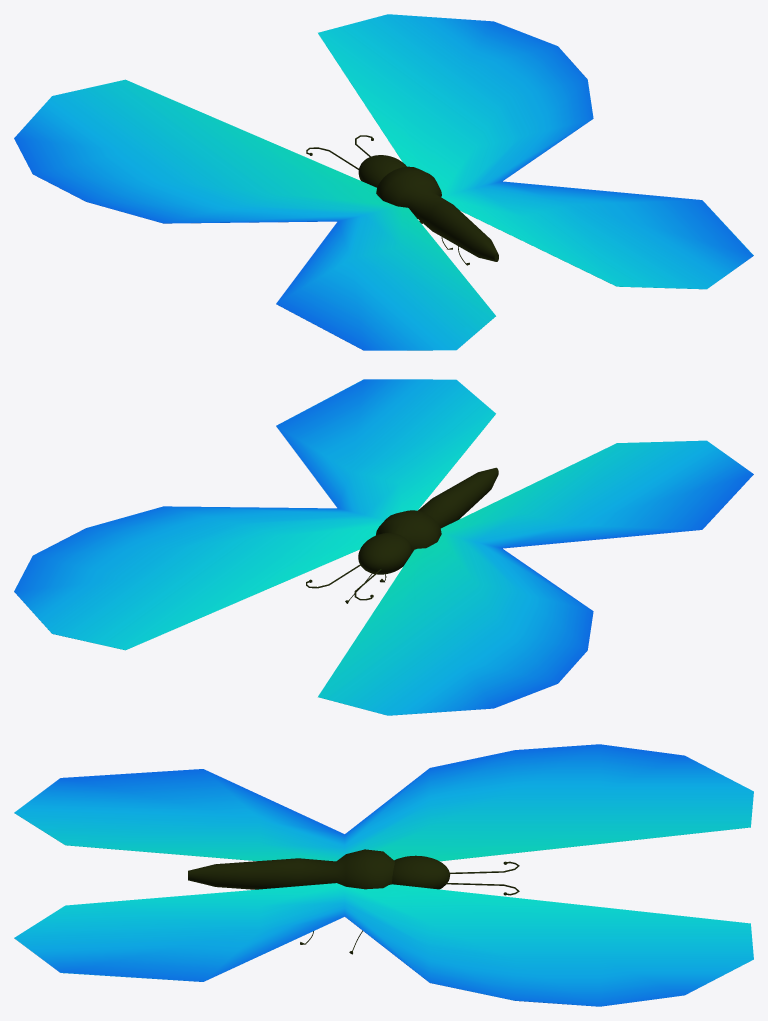
File: butterfly (1).glb
The picture shows the model from 3 angles, top to bottom: view 1: azimuth 30°, elevation 25°; view 2: azimuth 150°, elevation 25°; view 3: azimuth 270°, elevation 25°; orthographic projection. The views are drawn at different scales.
Visible parts, largest first — view 1: defaultMaterial; view 2: defaultMaterial; view 3: defaultMaterial.
Boxes of the visible parts, x1,y1,x2,y2 form: defaultMaterial: (14,14,753,350); defaultMaterial: (14,379,753,715); defaultMaterial: (14,744,753,1006).
Size of the model in its own units: 48.69 by 7.29 by 58.04.
1 material, 1 textured.
